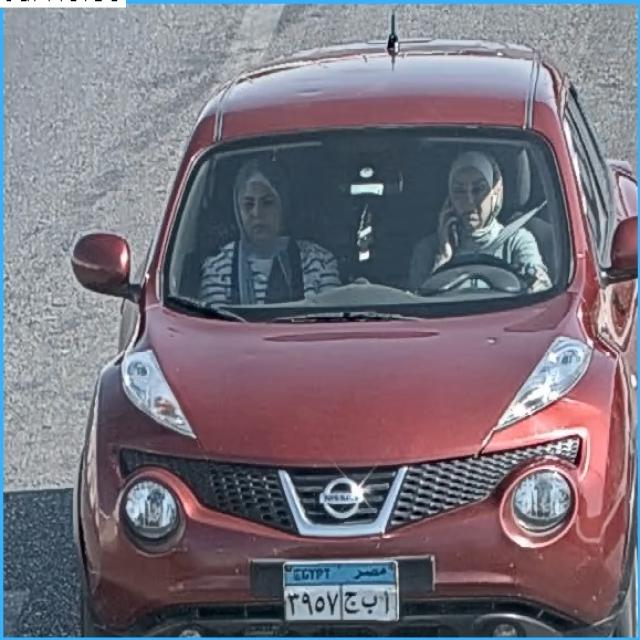windshield: (161, 140, 576, 314)
